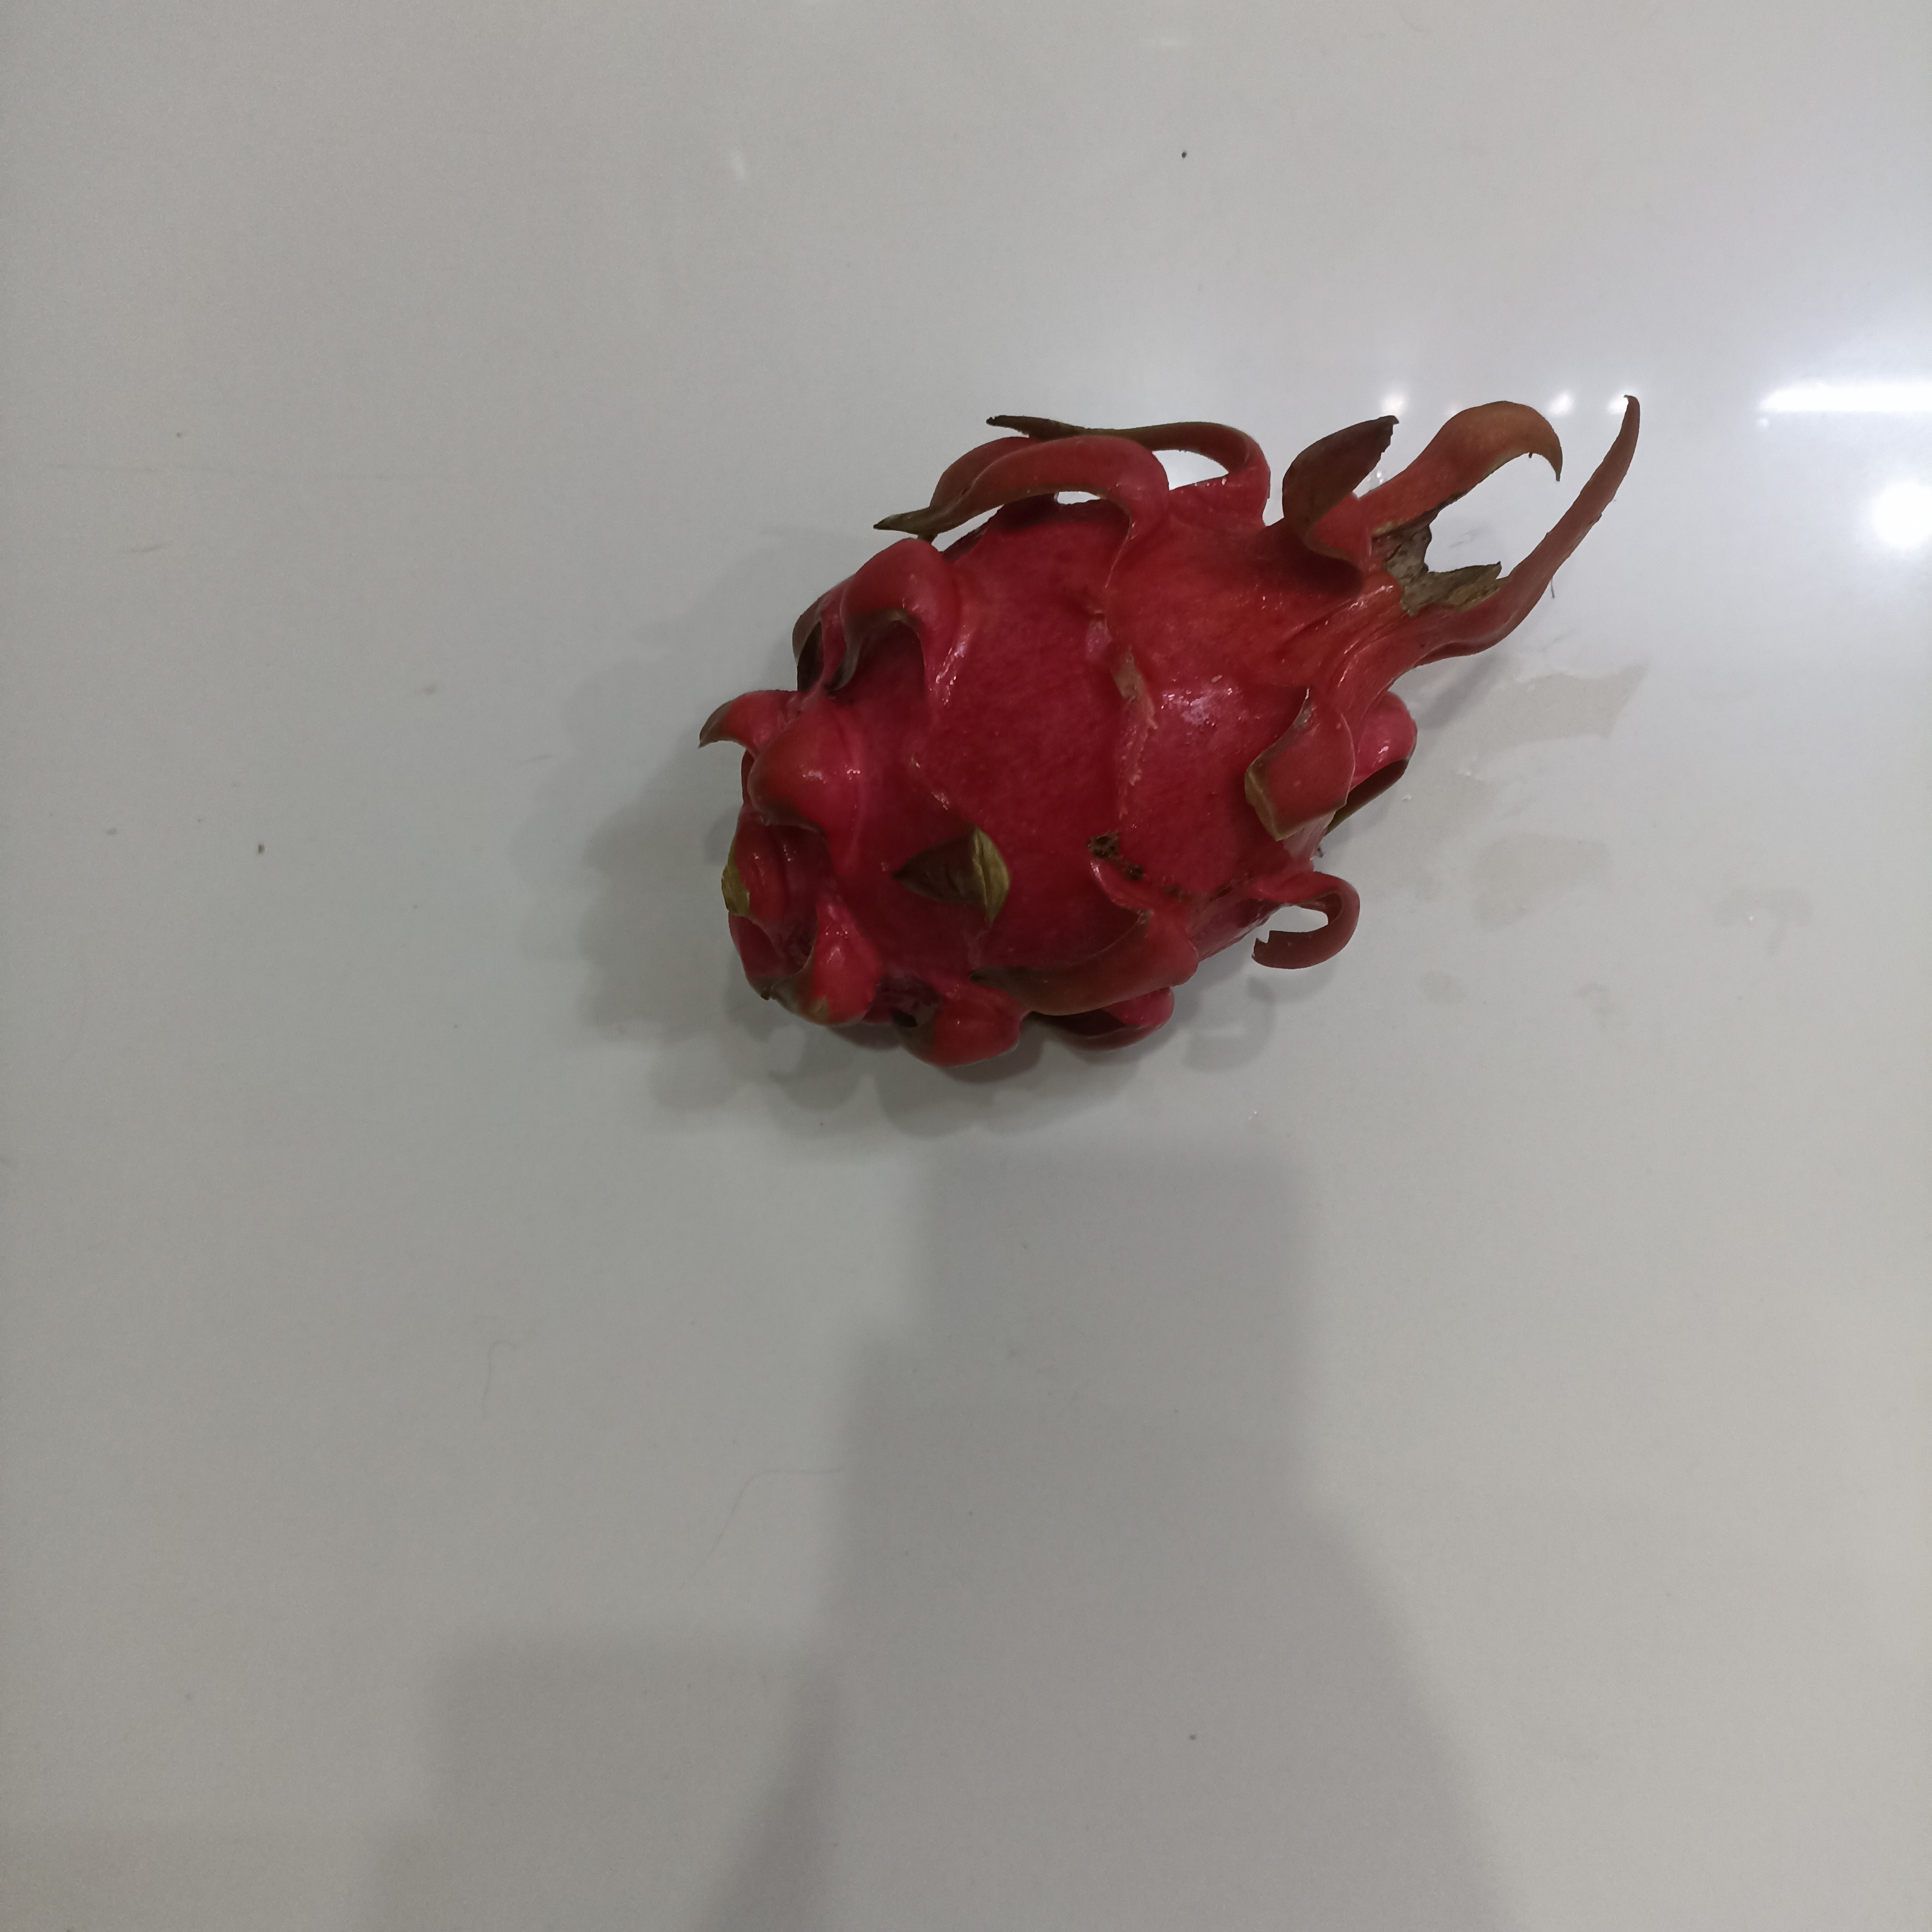Thanh long: (723, 480, 1458, 1040)
